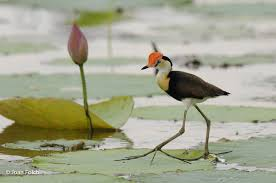Walking: (112, 35, 239, 180)
